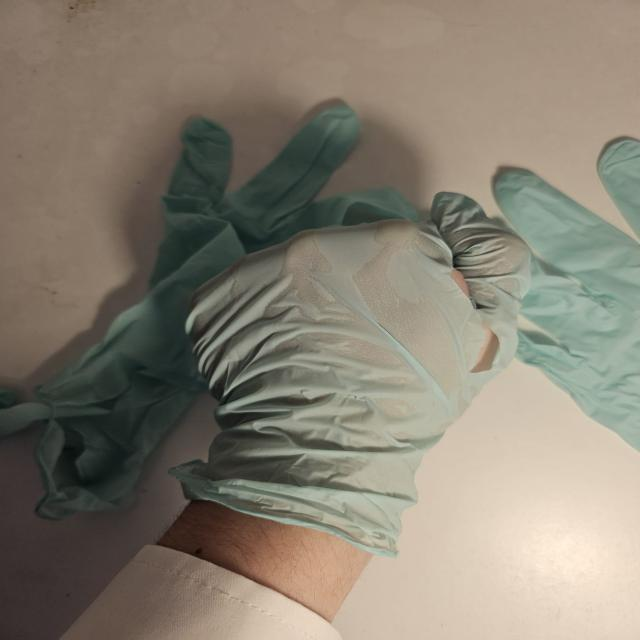gloves_damaged: (158, 186, 540, 561)
